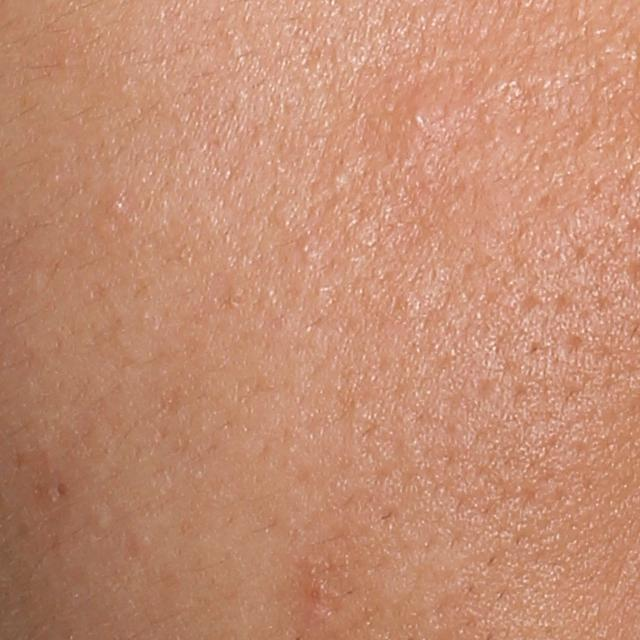comedo: (408, 102, 434, 128), (104, 195, 129, 216), (328, 169, 347, 189)
